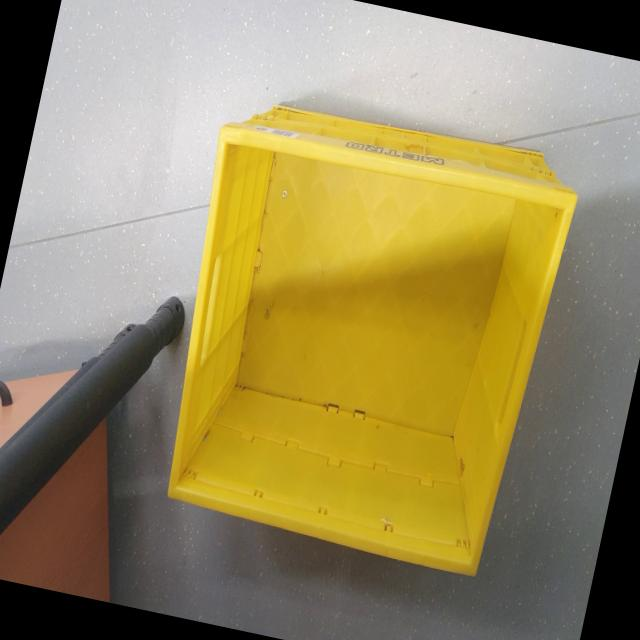box: (132, 60, 602, 609)
